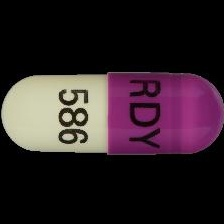42254-074: (0, 0, 224, 224)
